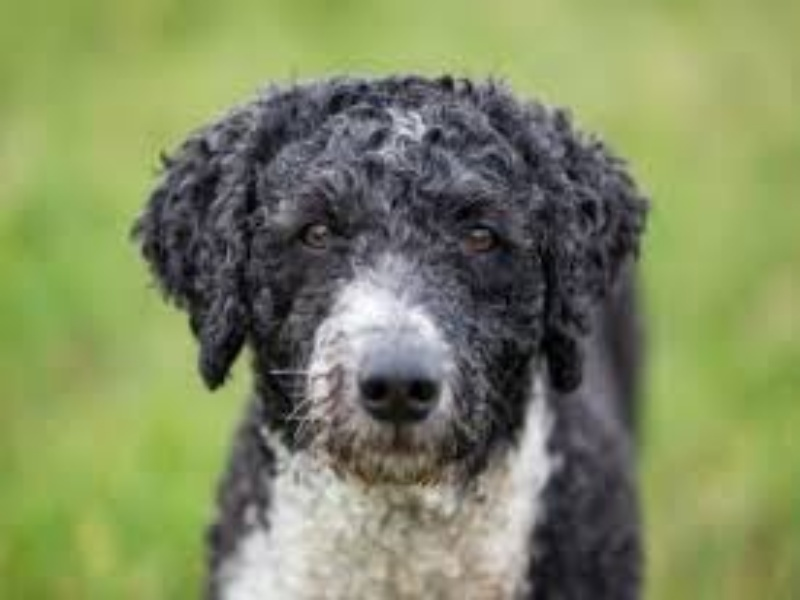dog: (121, 65, 664, 600)
